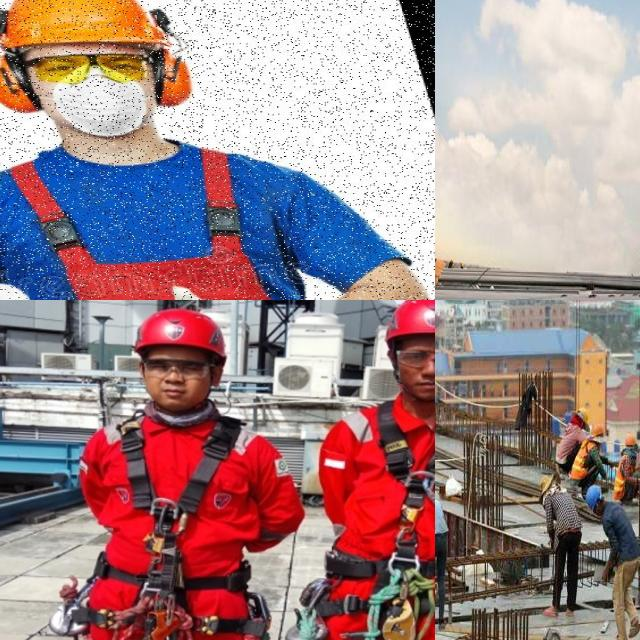Harness: (86, 413, 263, 636), (326, 397, 435, 620)
glasses: (19, 48, 176, 86)
head_helmet: (0, 0, 195, 50), (586, 484, 600, 514), (590, 422, 604, 440), (624, 433, 637, 448)
person: (0, 0, 435, 300), (526, 468, 586, 621), (435, 488, 455, 633)
vest: (570, 439, 596, 479), (614, 452, 630, 502)
